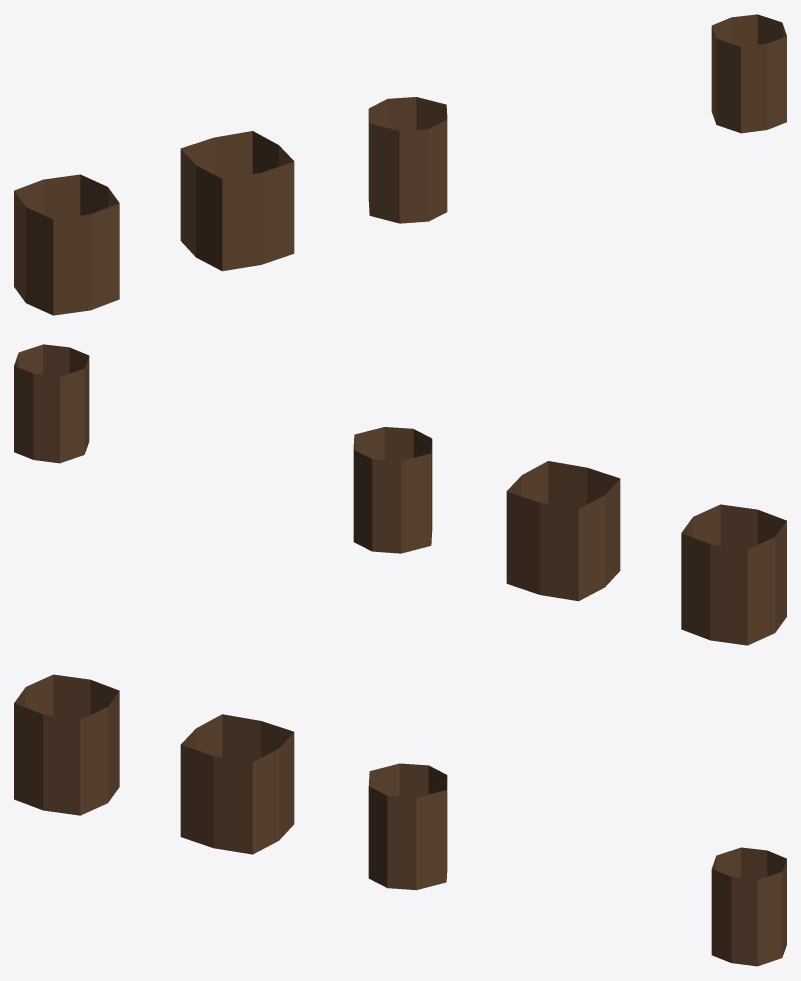
Rendered from Pillar.fbx.
3 views of the same model, one above another, from view 1: azimuth 30°, elevation 25°; view 2: azimuth 150°, elevation 25°; view 3: azimuth 330°, elevation 25° (orthographic).
Parts seen in each view (by area): view 1: ShieldTowerPillar, FireTowerPillar, CannonTowerPillar, HealTowerPillar; view 2: ShieldTowerPillar, FireTowerPillar, CannonTowerPillar, HealTowerPillar; view 3: ShieldTowerPillar, FireTowerPillar, CannonTowerPillar, HealTowerPillar.
Part boxes in pixels (box(x1,y1,x2,y2)): ShieldTowerPillar: box(180, 131, 294, 271); FireTowerPillar: box(14, 174, 119, 315); CannonTowerPillar: box(368, 97, 447, 223); HealTowerPillar: box(711, 14, 786, 133); ShieldTowerPillar: box(506, 461, 620, 601); FireTowerPillar: box(681, 504, 786, 645); CannonTowerPillar: box(353, 427, 432, 553); HealTowerPillar: box(14, 344, 89, 463); ShieldTowerPillar: box(180, 714, 294, 854); FireTowerPillar: box(14, 674, 119, 815); CannonTowerPillar: box(368, 763, 447, 890); HealTowerPillar: box(711, 847, 786, 966).
Bounding box in the file's own units: 887 × 108 × 97.07.
